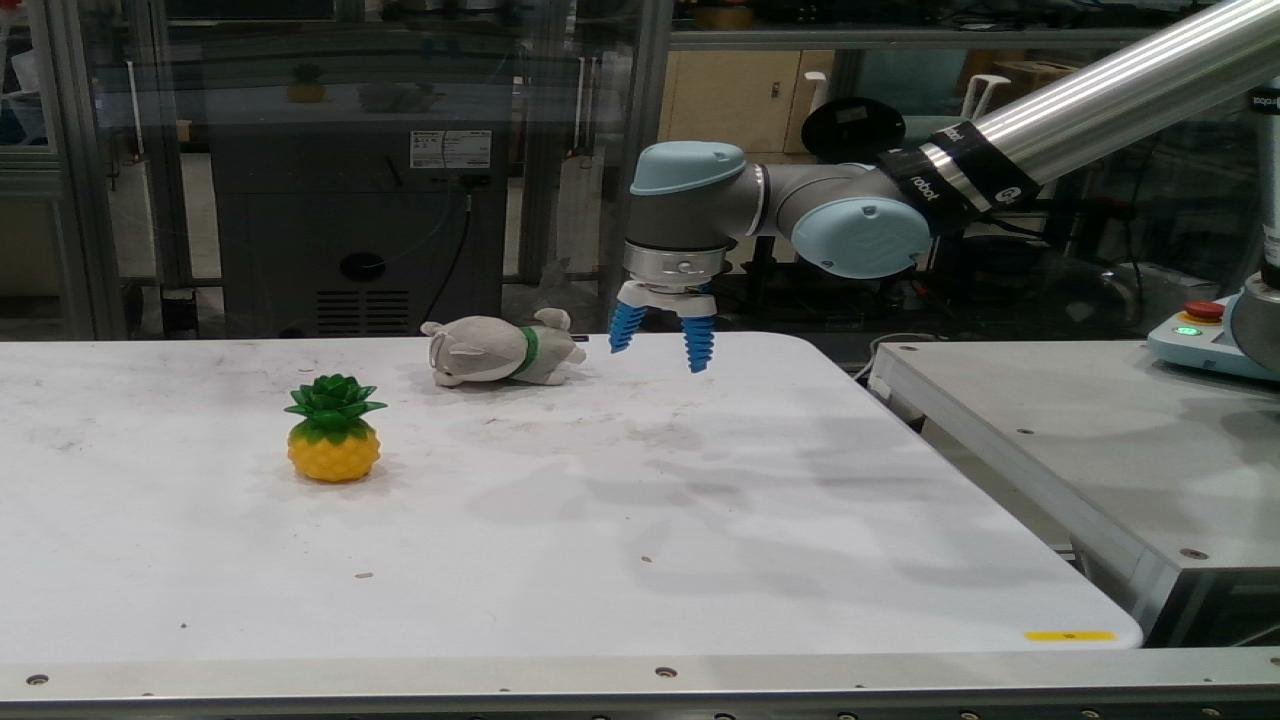UR5: (617, 0, 1279, 374)
gripper_left: (609, 303, 647, 354)
gripper_right: (679, 317, 714, 373)
target: (421, 308, 587, 388), (283, 373, 390, 482)
